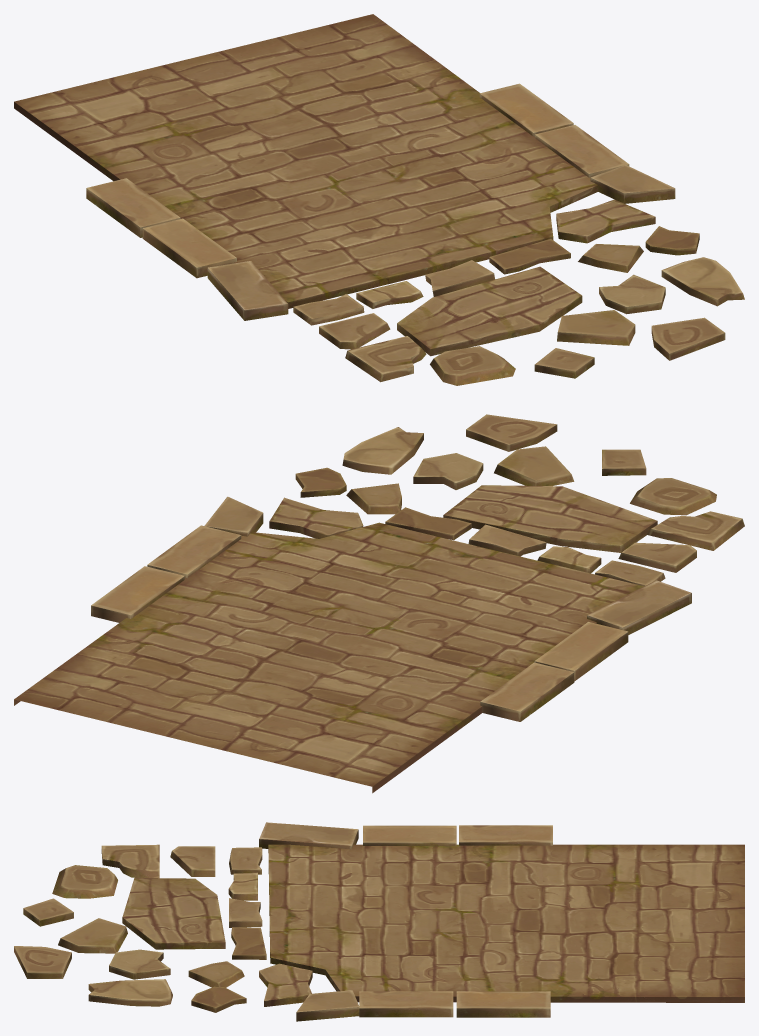
Rendered from CeShi_BFB07_Pinshimian.FBX.
3 renders of one model, top to bottom at view 1: azimuth 30°, elevation 25°; view 2: azimuth 150°, elevation 25°; view 3: azimuth 270°, elevation 25°, orthographic. The views are drawn at different scales.
Parts seen in each view (by area): view 1: CeShi_BFB07_Pinshimian; view 2: CeShi_BFB07_Pinshimian; view 3: CeShi_BFB07_Pinshimian.
Part boxes in pixels (x1,y1,x2,y2): CeShi_BFB07_Pinshimian: (14, 14, 744, 385); CeShi_BFB07_Pinshimian: (14, 414, 744, 793); CeShi_BFB07_Pinshimian: (14, 822, 744, 1021).
Bounding box in the file's own units: 1352 × 49.69 × 2197.
